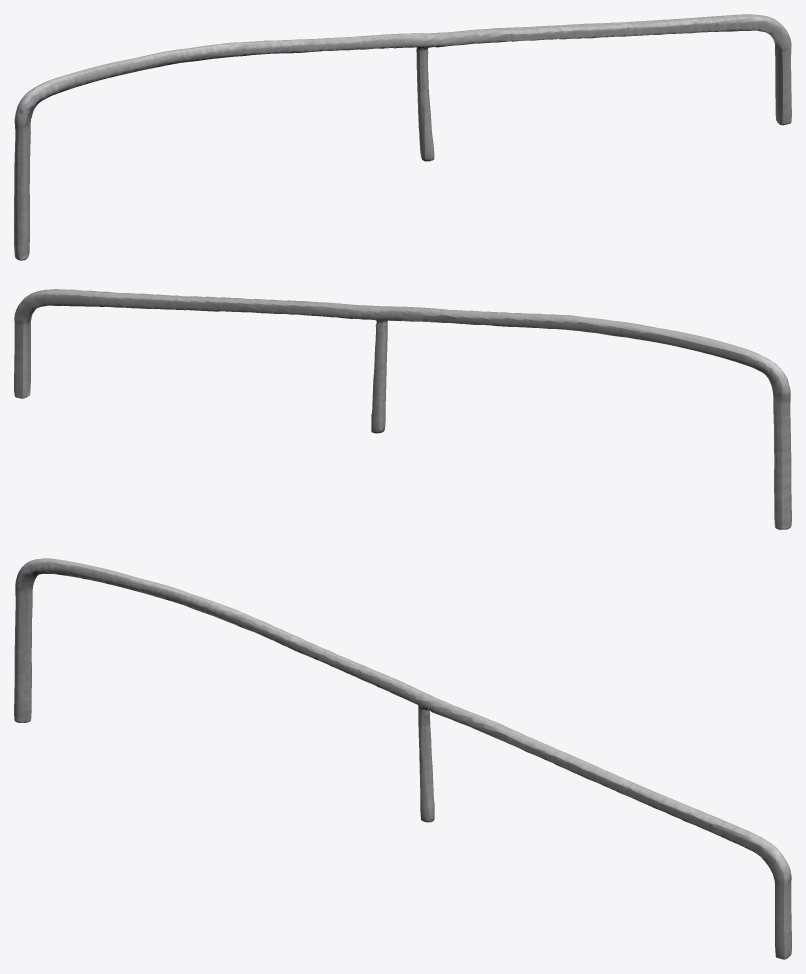
The picture shows the model from 3 angles, top to bottom: view 1: azimuth 30°, elevation 25°; view 2: azimuth 150°, elevation 25°; view 3: azimuth 330°, elevation 25°; orthographic projection.
Parts seen in each view (by area): view 1: park02; view 2: park02; view 3: park02.
Part boxes in pixels (x1,y1,x2,y2): park02: (14, 14, 791, 260); park02: (14, 289, 791, 529); park02: (14, 558, 791, 959).
Bounding box in the file's own units: 3.63 × 1 × 0.0828.
1 material, 1 textured.
